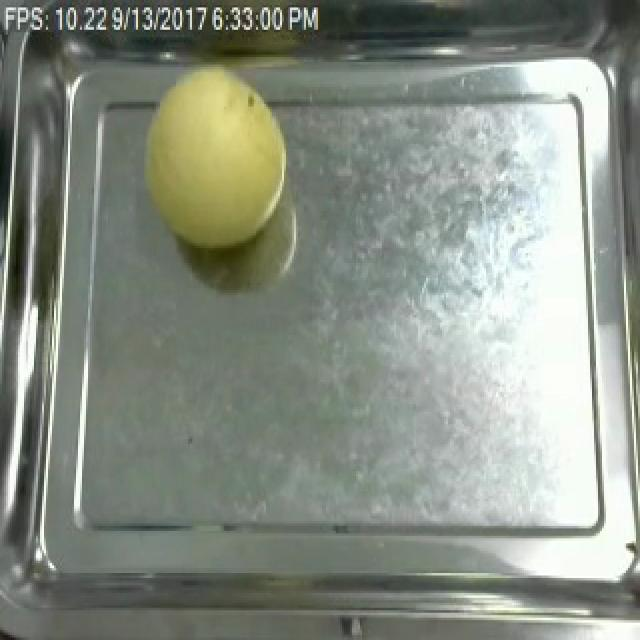Fruit: (132, 64, 298, 256)
